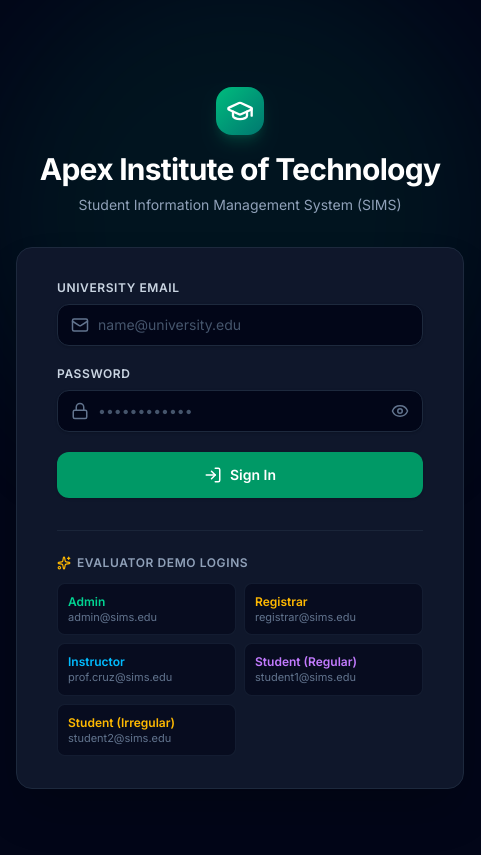
Test case: LoginPage Component › should show error banner when authentication fails
Type "wrong@university.edu" into the field labelled "University Email".
click(240, 324); type("wrong@university.edu")  # box [57,304,423,346]
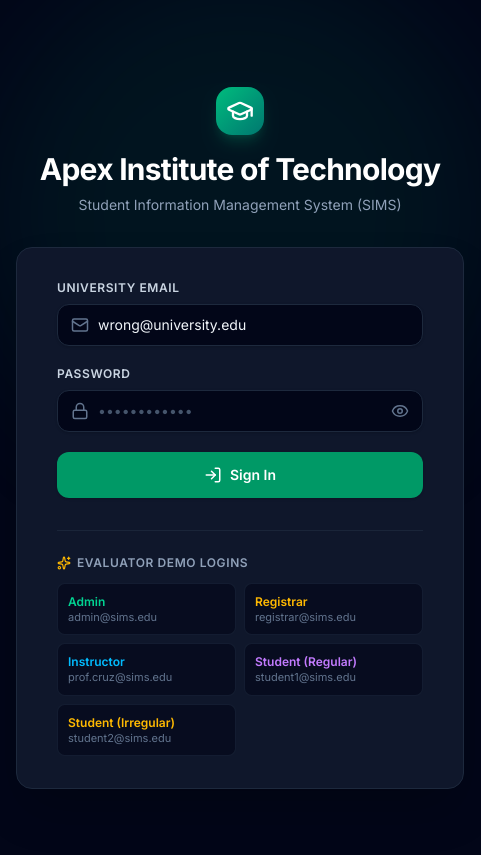
Type "WrongPass!" into the password field labelled "Password".
click(240, 410); type("WrongPass!")  # box [57,390,423,432]
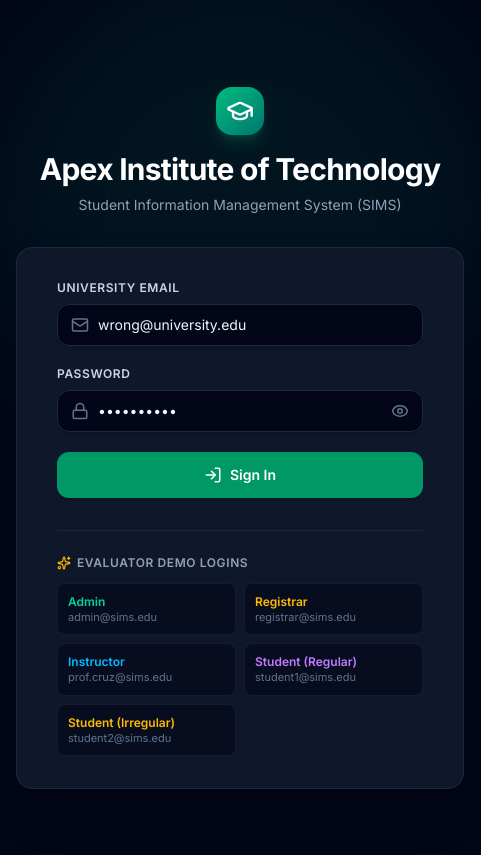
Click the button "Sign In".
click(240, 474)  # box [57,452,423,498]
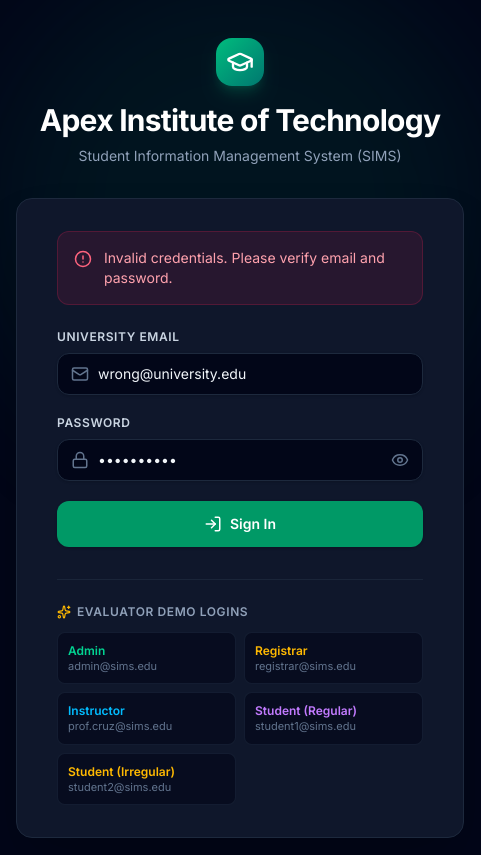
expect the message reads "Invalid credentials. Please verify email and password.": met, box [104,248,385,286]
